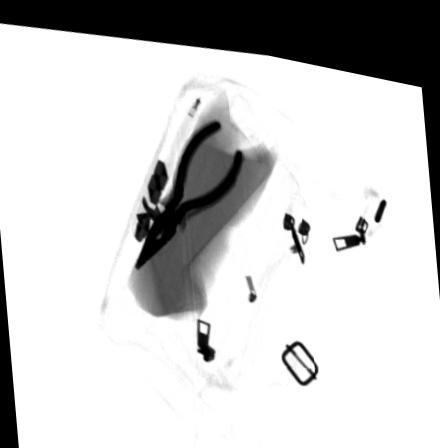Pliers: (132, 108, 245, 265)
